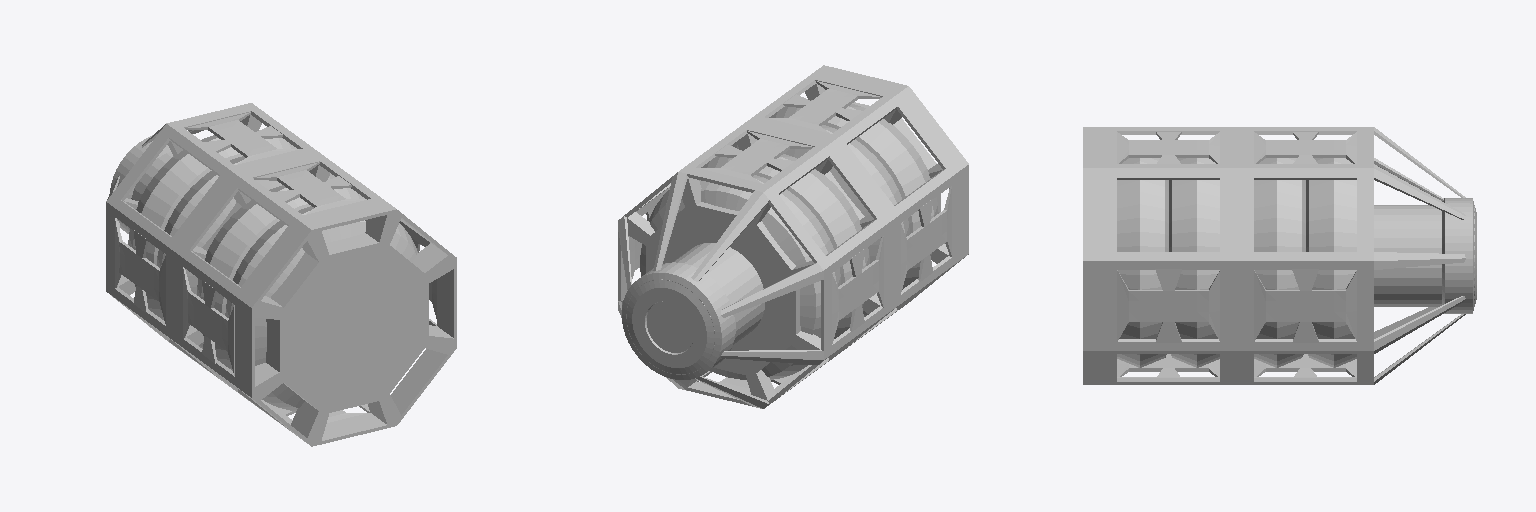
Rendered from RR_Mossbauer_Engine_magnet.obj.
The picture shows the model from 3 angles: view 1: azimuth 30°, elevation 25°; view 2: azimuth 150°, elevation 25°; view 3: azimuth 270°, elevation 25°; orthographic projection.
Visible parts, largest first — view 1: Cylinder; view 2: Cylinder; view 3: Cylinder.
Boxes of the visible parts, box(x1,y1,x2,y2) form: Cylinder: box(106, 103, 456, 446); Cylinder: box(618, 65, 968, 408); Cylinder: box(1083, 127, 1476, 384).
Bounding box in the file's own units: 7 × 7 × 11.5.